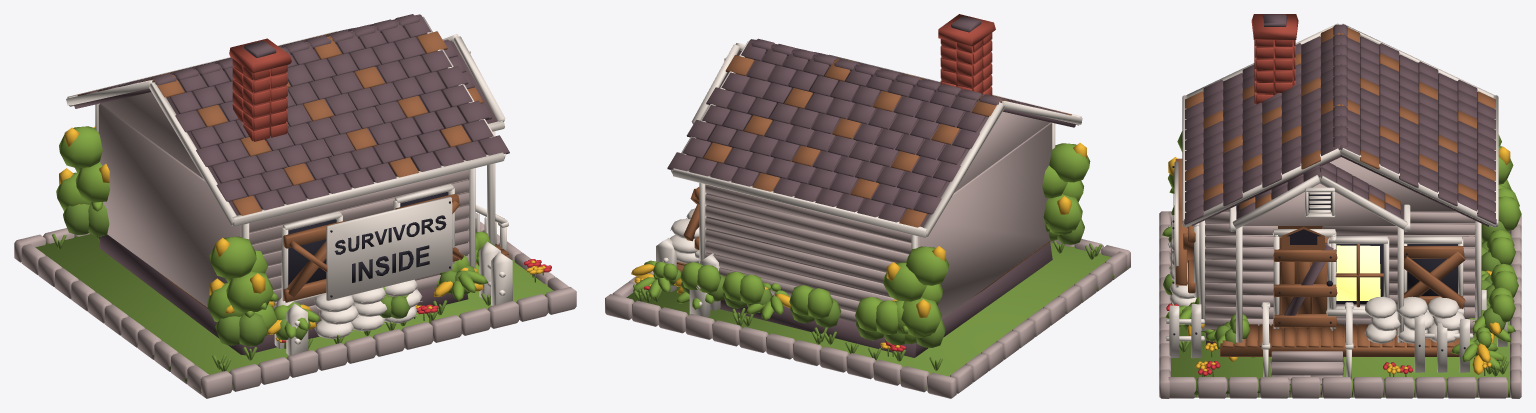
3 views of the same model, side by side, from view 1: azimuth 30°, elevation 25°; view 2: azimuth 150°, elevation 25°; view 3: azimuth 270°, elevation 25° (orthographic). The views are drawn at different scales.
Parts seen in each view (by area): view 1: body, roof; view 2: body, roof; view 3: body, roof, door_front, window_front.
Boxes of the visible parts, x1,y1,x2,y2 form: body: [14, 49, 576, 398]; roof: [66, 14, 509, 226]; body: [605, 50, 1130, 398]; roof: [667, 14, 1082, 237]; body: [1159, 131, 1521, 398]; roof: [1182, 14, 1498, 231]; door_front: [1273, 237, 1337, 329]; window_front: [1336, 245, 1380, 300].
Bounding box in the file's own units: 7.91 × 5.69 × 7.09.
